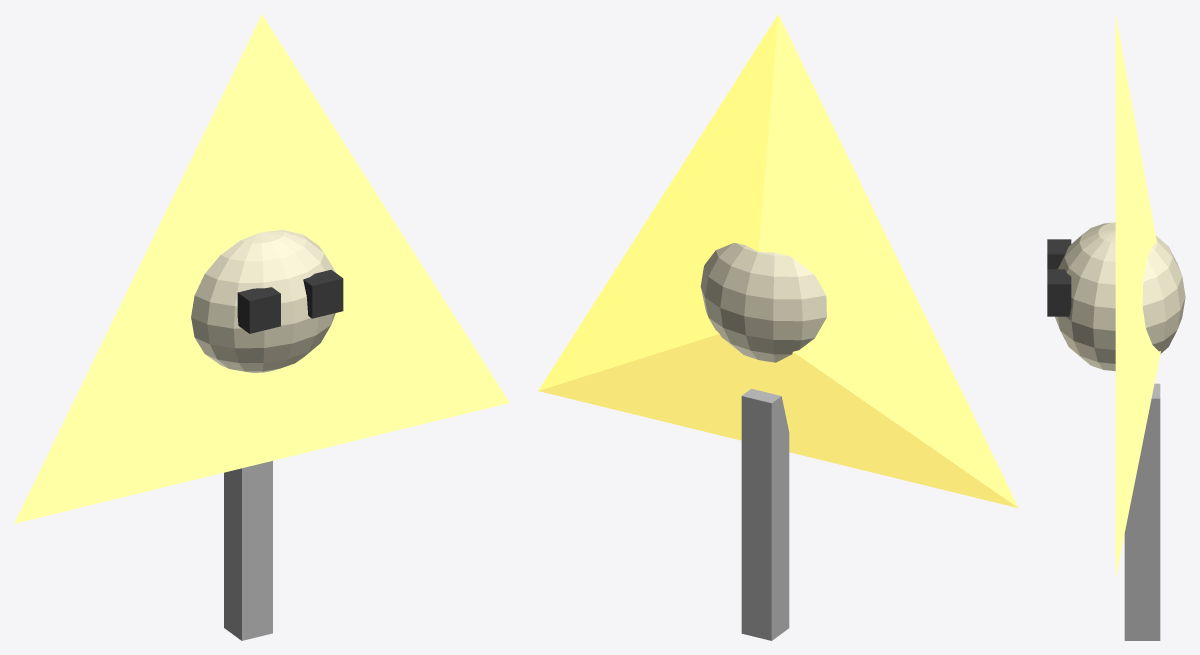
Rendered from hazard_sign.glb.
3 views of the same model, side by side, from view 1: azimuth 30°, elevation 25°; view 2: azimuth 150°, elevation 25°; view 3: azimuth 270°, elevation 25° (orthographic). The views are drawn at different scales.
Parts seen in each view (by area): view 1: SB_HazTri, SB_HazSkull, SB_HazPole, SB_HazEyeL, SB_HazEyeR; view 2: SB_HazTri, SB_HazPole, SB_HazSkull; view 3: SB_HazTri, SB_HazSkull, SB_HazPole, SB_HazEyeR, SB_HazEyeL.
Boxes of the visible parts, x1,y1,x2,y2 form: SB_HazTri: (14, 14, 509, 523); SB_HazSkull: (191, 230, 335, 372); SB_HazPole: (224, 461, 272, 640); SB_HazEyeL: (237, 287, 280, 333); SB_HazEyeR: (303, 269, 343, 318); SB_HazTri: (538, 14, 1018, 507); SB_HazPole: (741, 388, 789, 640); SB_HazSkull: (700, 243, 826, 362); SB_HazTri: (1115, 14, 1160, 577); SB_HazSkull: (1055, 222, 1185, 371); SB_HazPole: (1124, 383, 1160, 640); SB_HazEyeR: (1047, 269, 1071, 316); SB_HazEyeL: (1047, 239, 1071, 269).
Bounding box in the file's own units: 1.91 × 2.3 × 0.465.
